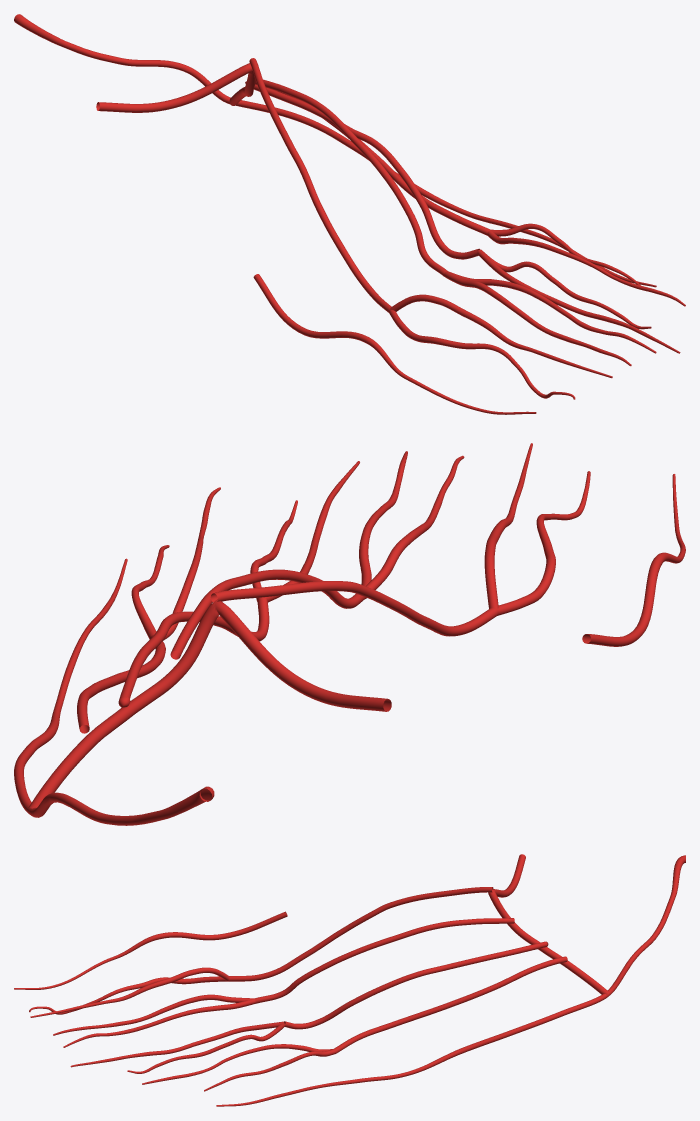
The model's file is circulatorio-lateral-plantar-veins-l.glb.
3 views of the same model, one above another, from view 1: azimuth 30°, elevation 25°; view 2: azimuth 150°, elevation 25°; view 3: azimuth 270°, elevation 25° (orthographic). The views are drawn at different scales.
Visible parts, largest first — view 1: Plantar digital veins.l, Plantar metatarsal veins.l, Plantar venous arch.l, Lateral plantar veins.l; view 2: Plantar digital veins.l, Plantar metatarsal veins.l, Plantar venous arch.l, Lateral plantar veins.l; view 3: Plantar digital veins.l, Plantar metatarsal veins.l, Plantar venous arch.l, Lateral plantar veins.l.
Boxes of the visible parts, x1,y1,x2,y2 form: Plantar digital veins.l: (236,100,685,414); Plantar metatarsal veins.l: (245,58,490,312); Plantar venous arch.l: (96,63,255,112); Lateral plantar veins.l: (14,14,230,104); Plantar digital veins.l: (14,443,685,814); Plantar metatarsal veins.l: (77,569,498,733); Plantar venous arch.l: (28,599,391,808); Lateral plantar veins.l: (29,786,214,825); Plantar digital veins.l: (14,911,608,1106); Plantar metatarsal veins.l: (228,887,567,1053); Plantar venous arch.l: (488,854,608,994); Lateral plantar veins.l: (608,855,685,995).
Bounding box in the file's own units: 0.0852 × 0.0361 × 0.167.
